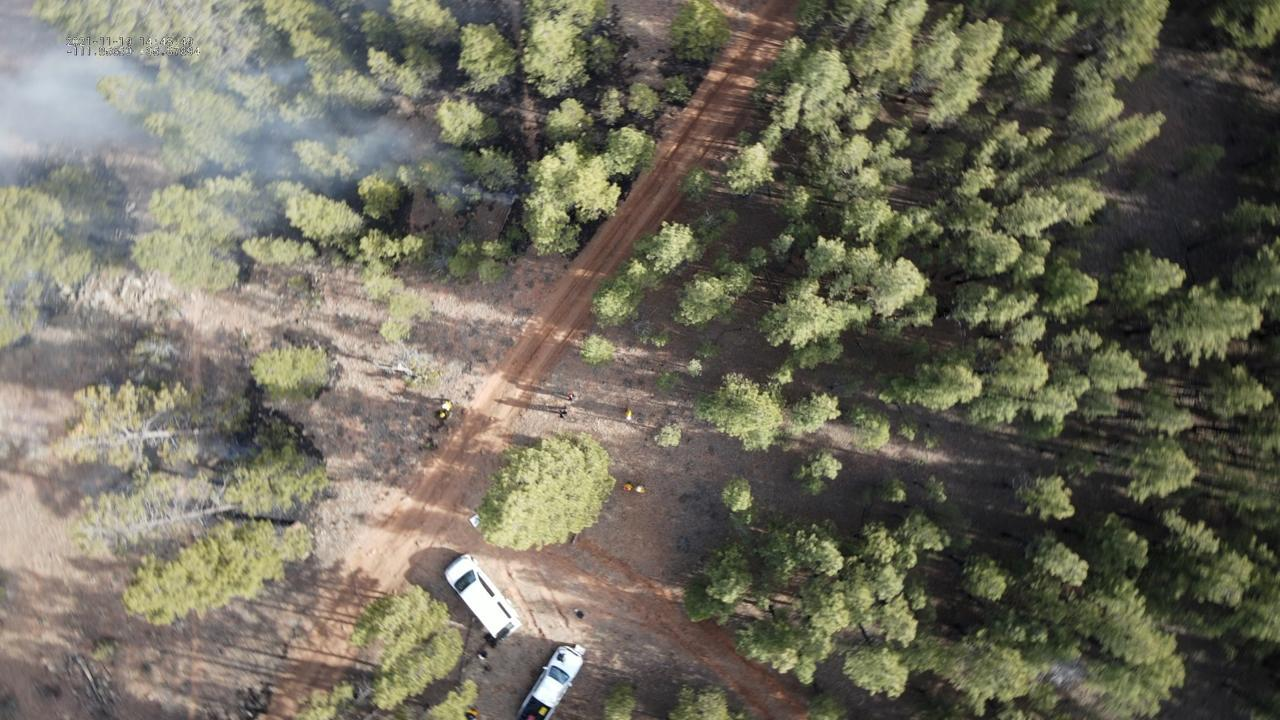smoke: (0, 0, 528, 207)
